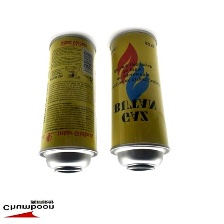aerosol_cans: (107, 27, 172, 175), (36, 31, 99, 176)
